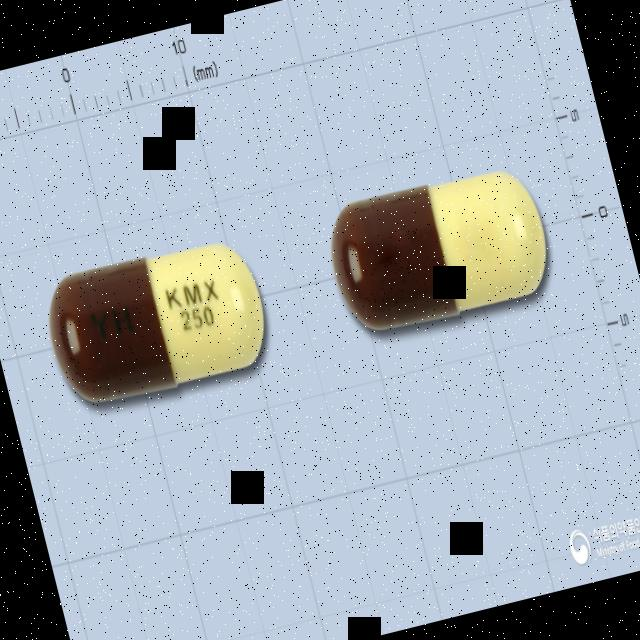Kymoxin Cap: (36, 229, 278, 414)
